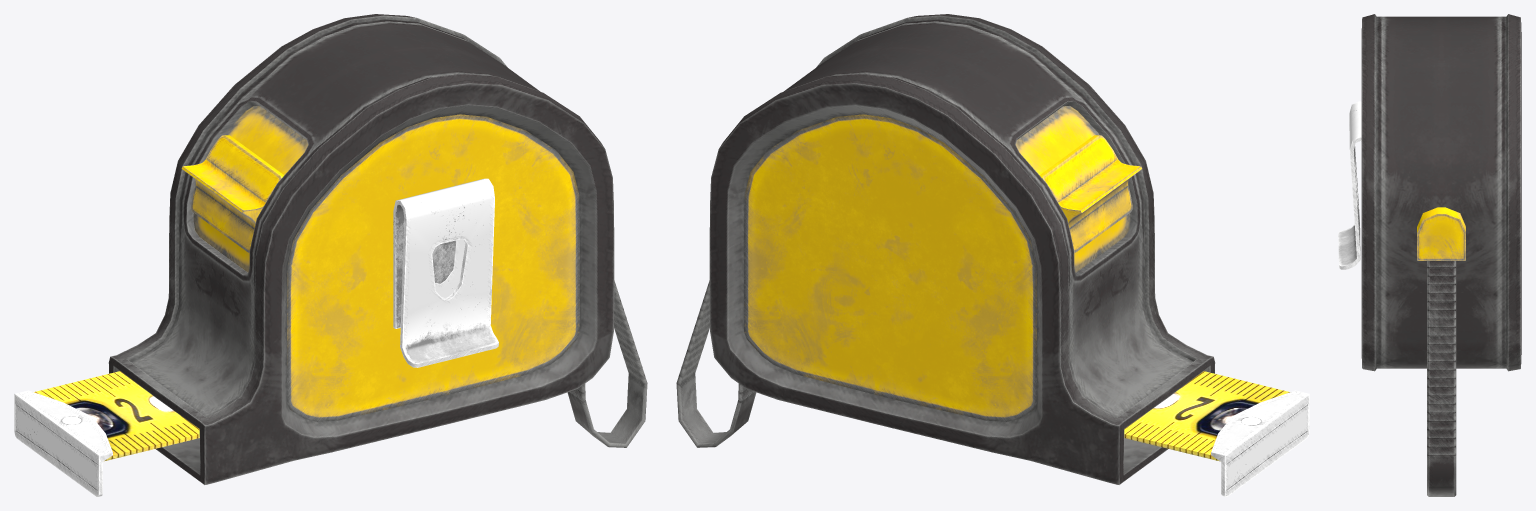
Rendered from tape.glb.
The picture shows the model from 3 angles, left to right: view 1: azimuth 30°, elevation 25°; view 2: azimuth 150°, elevation 25°; view 3: azimuth 270°, elevation 25°; orthographic projection. The views are drawn at different scales.
Visible parts, largest first — view 1: Metre, Attache, EmboutMetre, Bouton, sANGLE; view 2: Metre, EmboutMetre, Bouton, sANGLE; view 3: Metre, sANGLE, Cube, Attache.
Part boxes in pixels (bbox=[...]): Metre: bbox=[108, 14, 614, 484]; Attache: bbox=[393, 178, 498, 367]; EmboutMetre: bbox=[14, 371, 199, 496]; Bouton: bbox=[181, 135, 284, 252]; sANGLE: bbox=[567, 280, 647, 447]; Metre: bbox=[709, 14, 1215, 484]; EmboutMetre: bbox=[1124, 371, 1309, 496]; Bouton: bbox=[1039, 135, 1142, 252]; sANGLE: bbox=[676, 280, 756, 447]; Metre: bbox=[1361, 14, 1521, 371]; sANGLE: bbox=[1427, 261, 1456, 496]; Cube: bbox=[1417, 207, 1465, 260]; Attache: bbox=[1338, 101, 1361, 269].
Size of the model in its own units: 6.43 by 4.73 by 2.09.
1 material, 1 textured.
